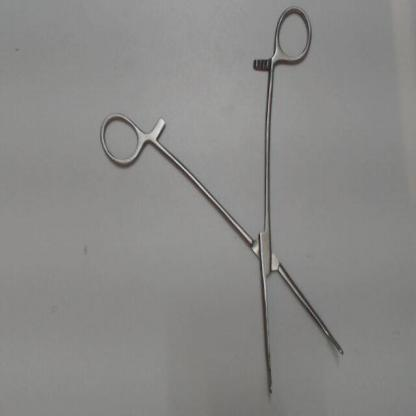Lahey Forceps: (95, 3, 358, 398)
